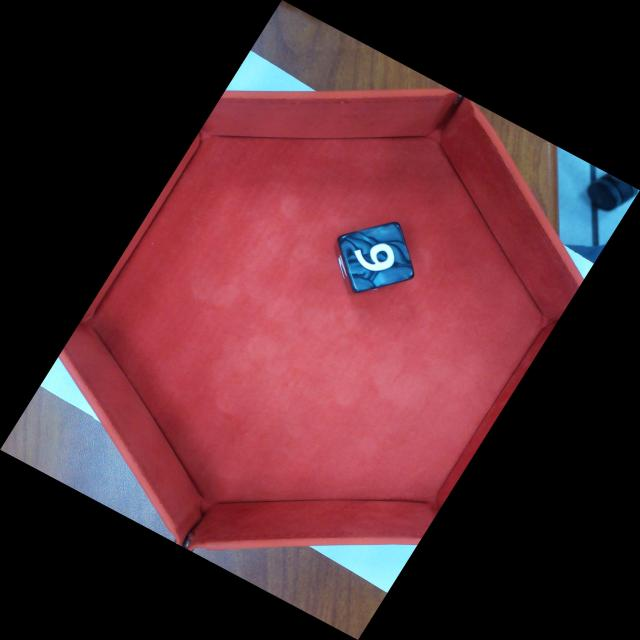dice: (343, 227, 414, 292)
